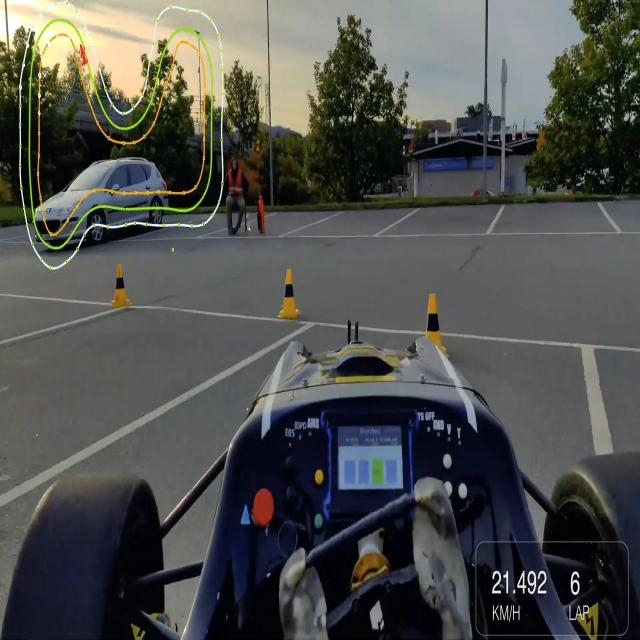yellow_cone: (419, 294, 450, 366), (279, 268, 300, 318), (110, 265, 132, 308)
